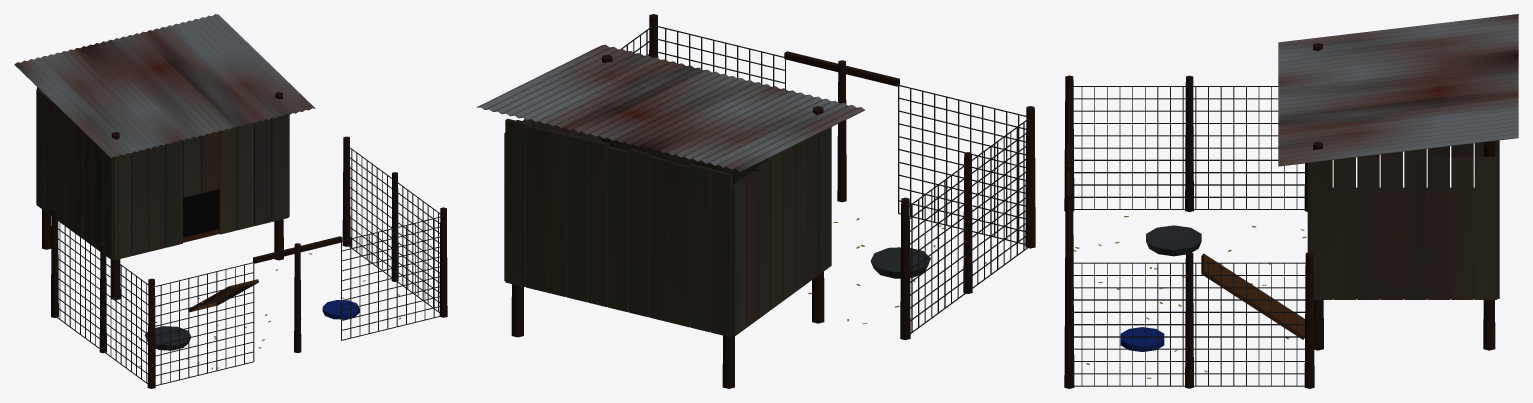
File: fm_coop.glb
3 renders of one model, left to right at view 1: azimuth 30°, elevation 25°; view 2: azimuth 150°, elevation 25°; view 3: azimuth 270°, elevation 25°, orthographic. The views are drawn at different scales.
Visible parts, largest first — view 1: fm_coop; view 2: fm_coop; view 3: fm_coop.
Boxes of the visible parts, <box> form: fm_coop: <box>14,14,447,388</box>; fm_coop: <box>476,14,1035,388</box>; fm_coop: <box>1064,14,1518,388</box>.
Bounding box in the file's own units: 4.11 × 2.72 × 4.35.
